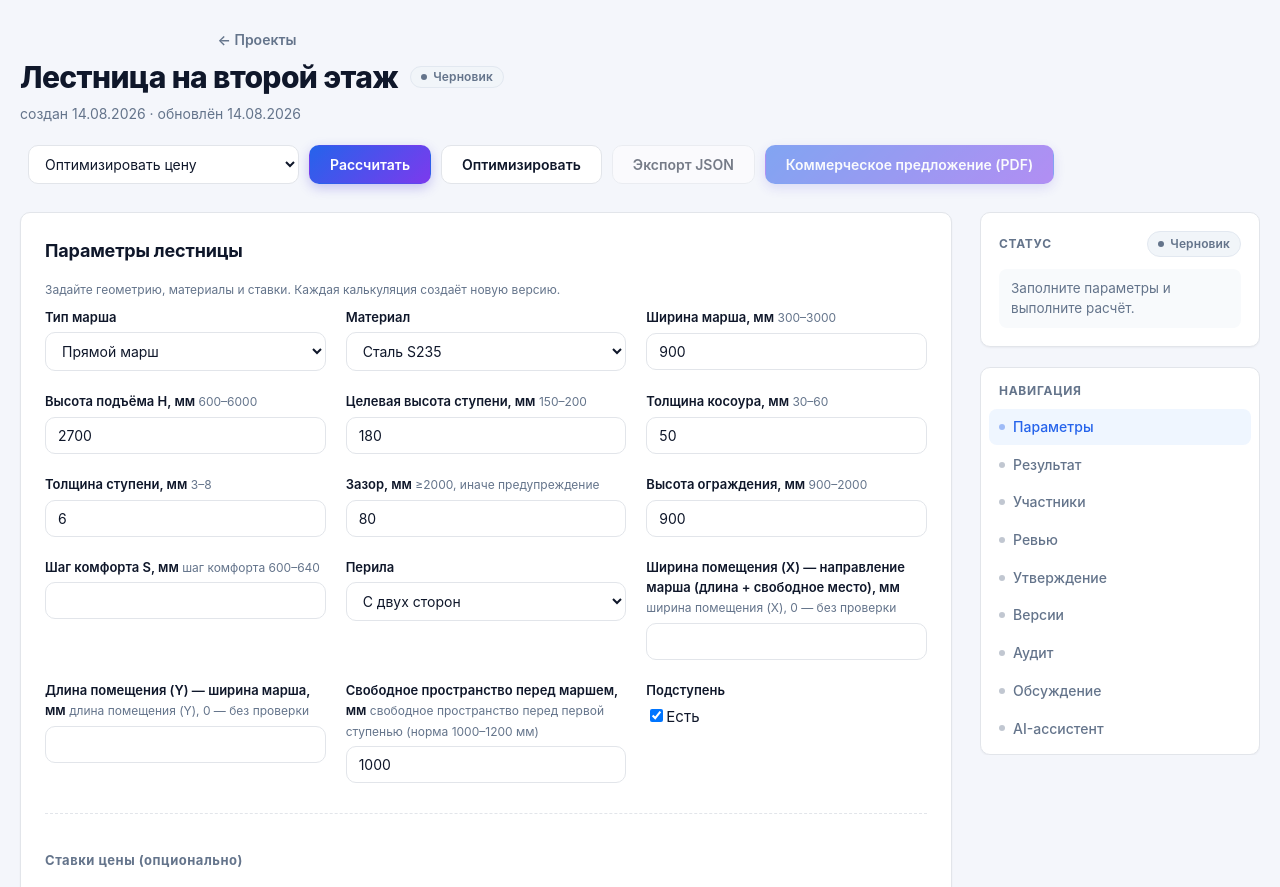
Test: ProjectDetail › спираль скрывает шаг комфорта и поля площадки
The image size is (1280, 887).
Check: the heading "Лестница на второй этаж Черновик" is shown, box [20,59,504,95]
Select "Спиральная (винтовая)" in the dropdown labelled "Тип марша" at point(185, 352), box [45,332,326,371]
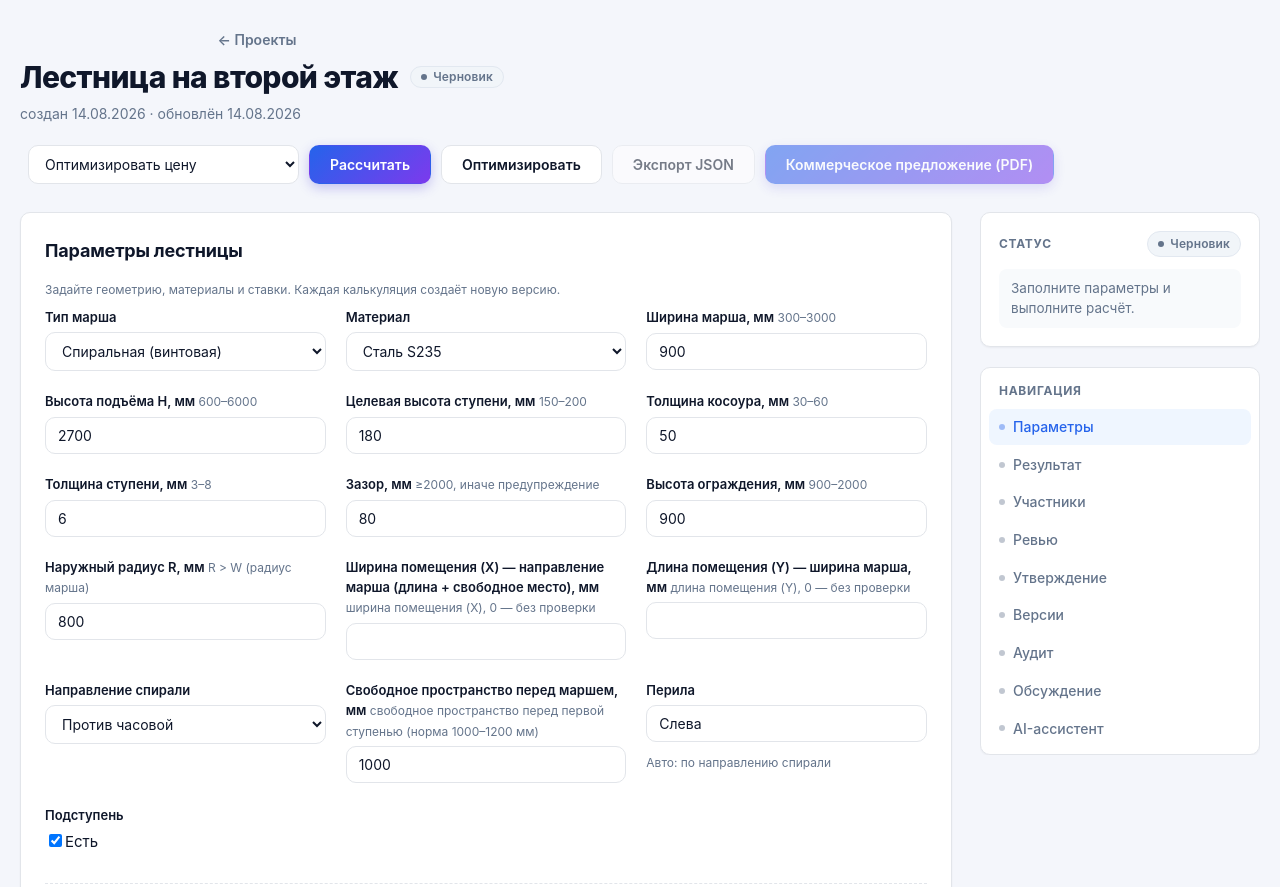
Check: the number field labelled "Ширина марша, мм 300–3000" is shown, box [646,333,927,370]
Check: the number field labelled "Наружный радиус R, мм R > W (радиус марша)" is shown, box [45,603,326,640]
Check: the text labelled "шаг комфорта" is gone
